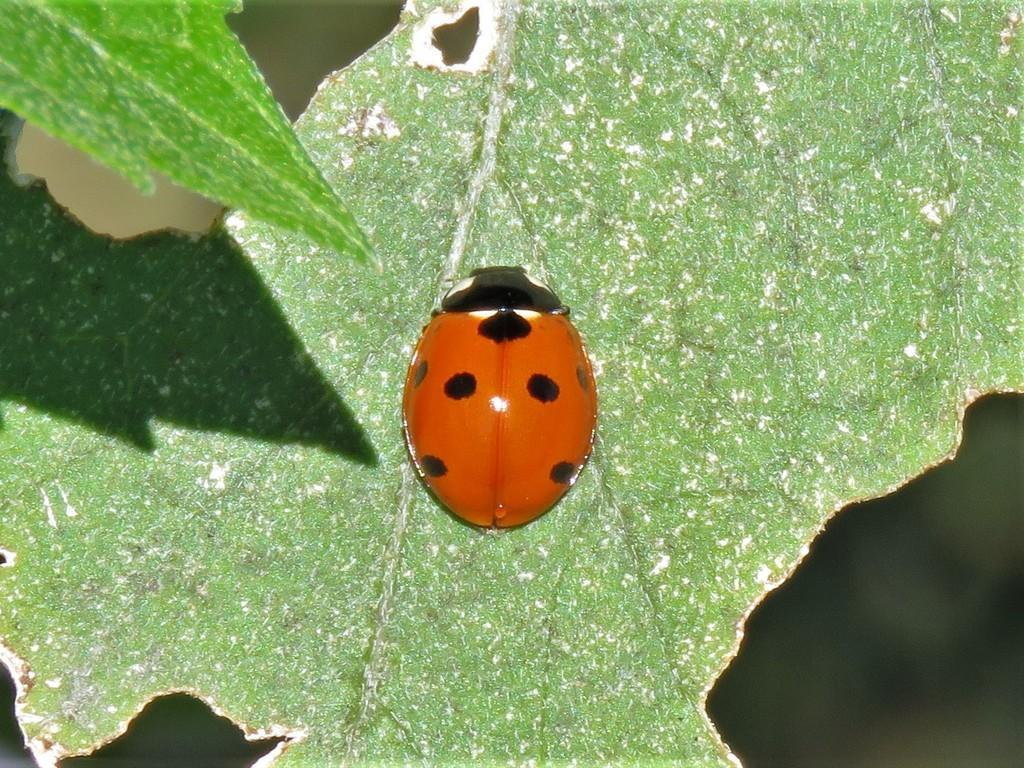ladybug: (399, 259, 605, 535)
